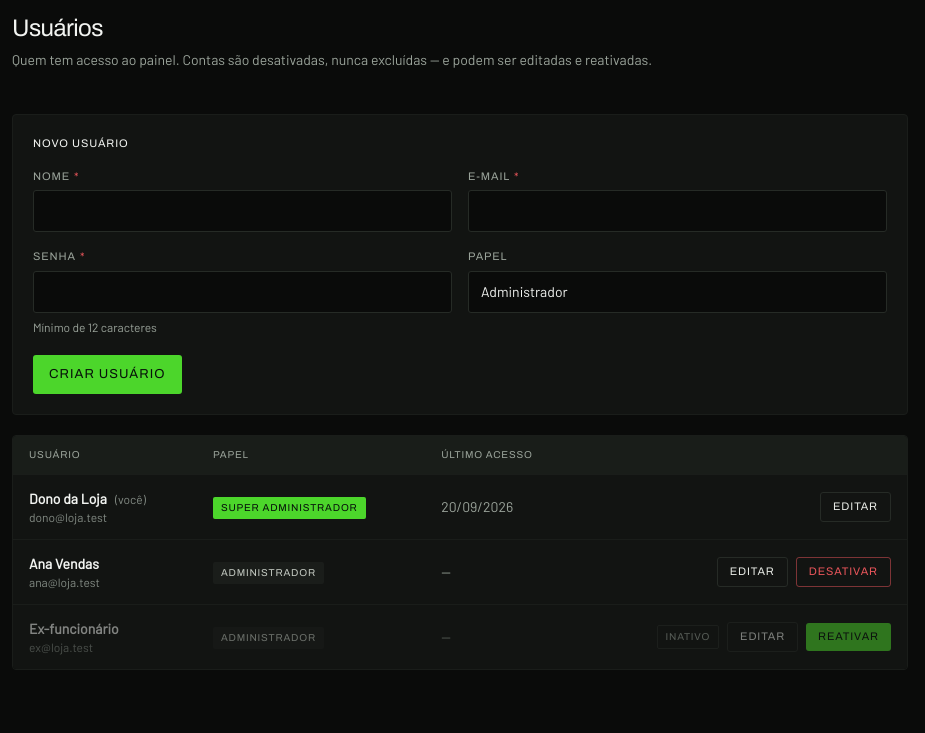
it: usuários › "Reativar" na linha da conta inativa
Expected: the text "Ex-funcionário" is shown, [29,620,119,637]
Click the button "Reativar" at (848, 637), box [806,623,891,651]
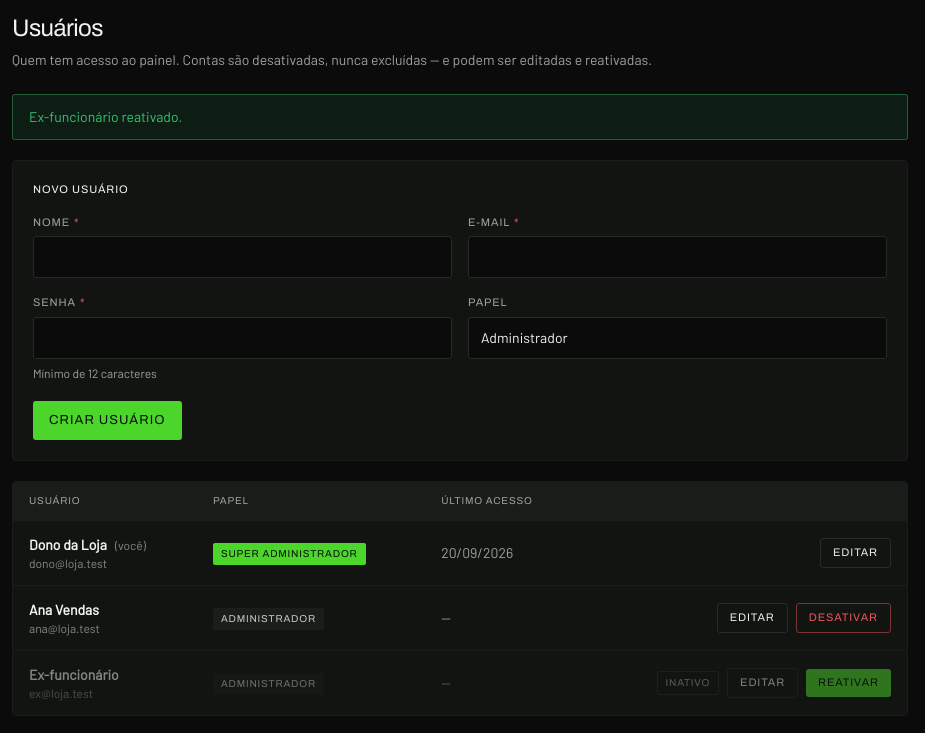
Now the text "Ex-funcionário reativado." is shown, box [12,94,908,140]
